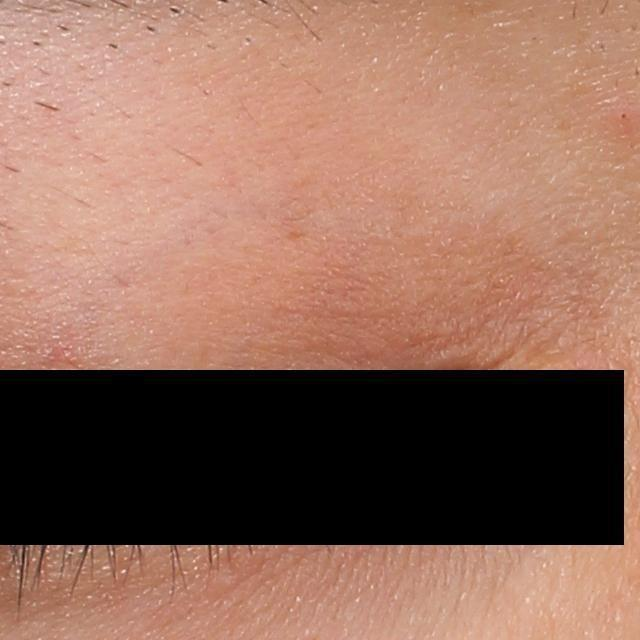papule: (608, 106, 639, 133)
